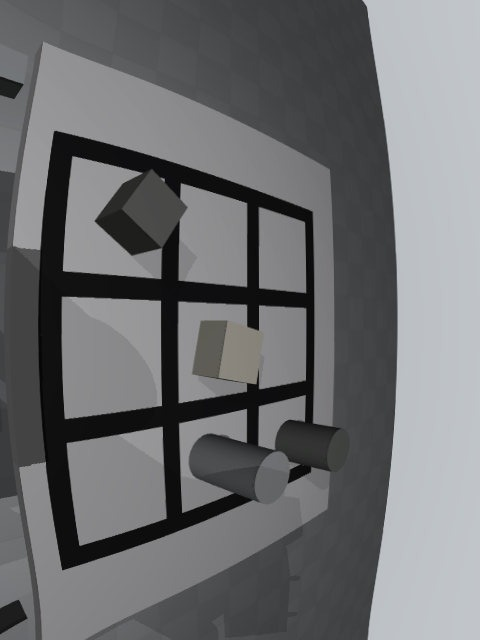can: (188, 433, 290, 505)
cube: (95, 169, 188, 256)
cylinder: (275, 420, 350, 472)
foam: (192, 320, 264, 385)
